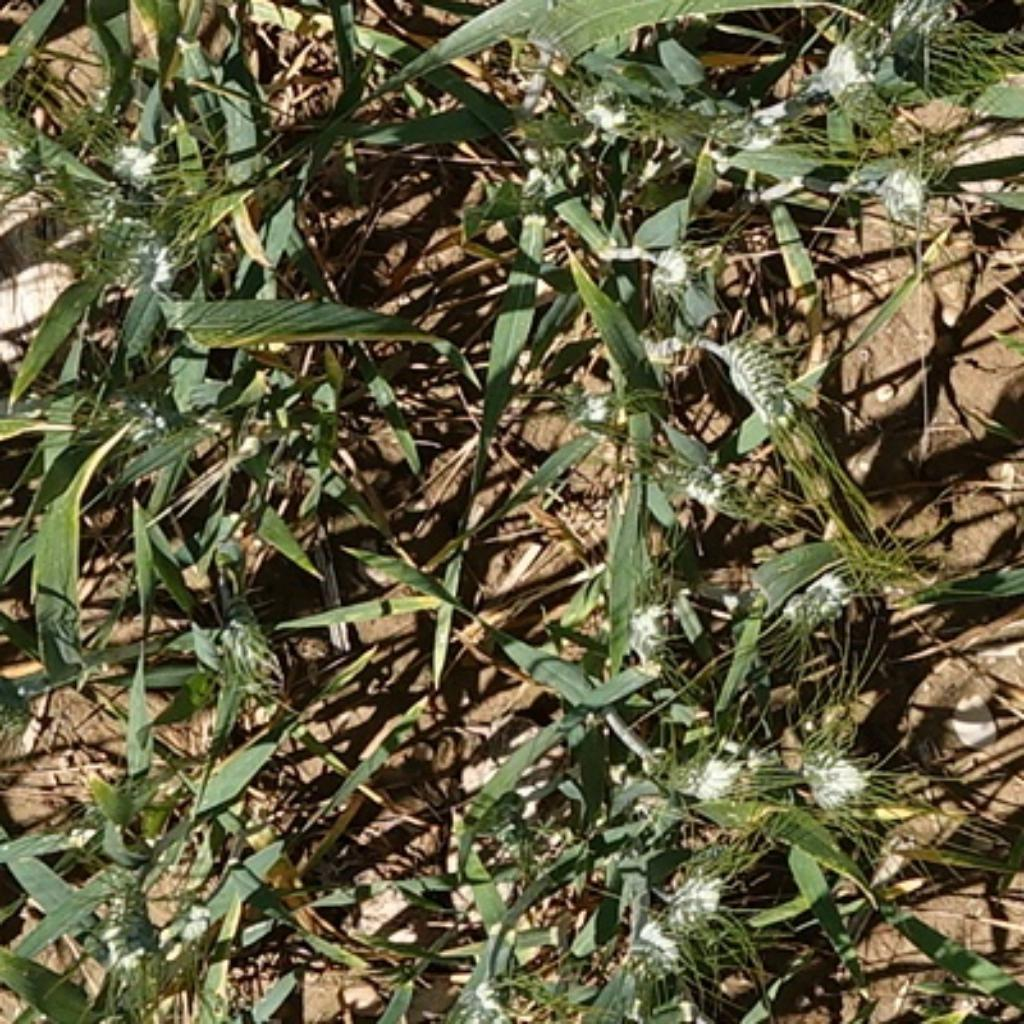0-0: (721, 322, 802, 436), (89, 871, 177, 968), (645, 734, 765, 803), (670, 442, 765, 527), (808, 18, 890, 115), (545, 363, 629, 448), (788, 729, 875, 811), (606, 903, 686, 990), (107, 230, 215, 294), (604, 583, 688, 665), (184, 618, 273, 693), (650, 857, 732, 936), (445, 970, 555, 1024), (775, 558, 857, 627), (560, 74, 640, 143), (862, 148, 936, 220), (642, 235, 711, 307), (87, 394, 163, 442), (883, 0, 967, 43), (99, 128, 161, 184), (2, 122, 51, 184)
